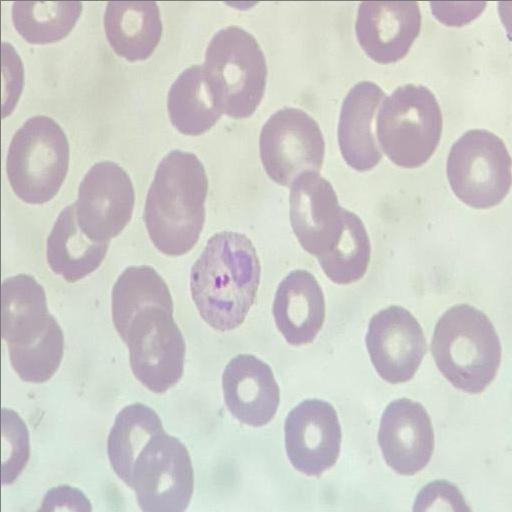Infected: (189, 230, 262, 332)
Uninfected: (432, 304, 500, 393), (202, 26, 267, 116), (376, 83, 443, 166), (6, 115, 69, 202), (73, 161, 135, 244), (445, 128, 510, 207), (107, 403, 168, 487), (258, 109, 324, 185), (47, 204, 110, 282), (129, 309, 186, 395), (132, 433, 195, 510), (109, 266, 173, 340), (289, 169, 344, 254), (366, 306, 426, 383), (283, 398, 343, 474), (338, 82, 388, 170), (220, 354, 280, 426), (377, 399, 433, 474), (272, 270, 326, 345), (315, 213, 369, 286), (8, 316, 65, 384), (167, 66, 223, 135), (356, 2, 420, 62), (1, 276, 52, 348), (104, 2, 162, 60), (152, 150, 204, 214), (148, 199, 202, 256)
